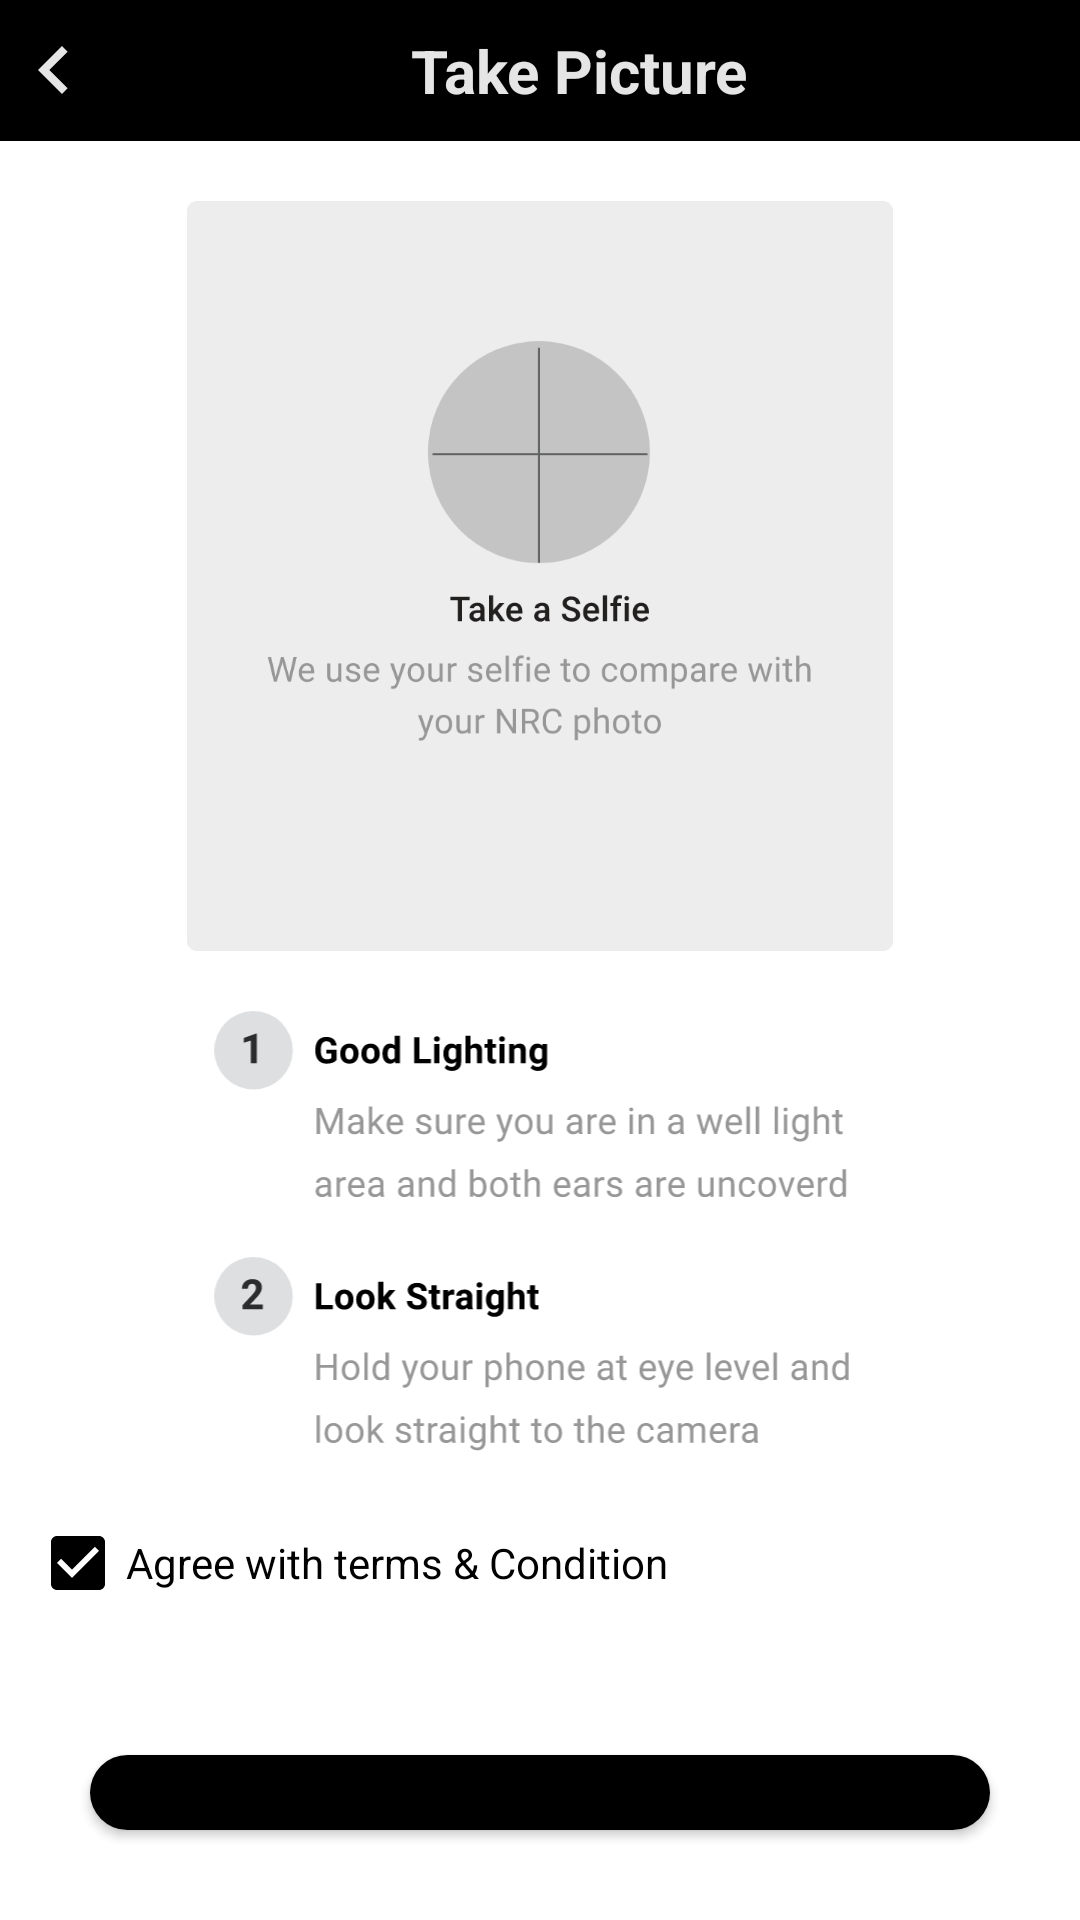

Icons on this 1080*1920 Android screen, each with its box as BBox(x1, y1, x2, y2):
back: BBox(38, 46, 68, 94)
